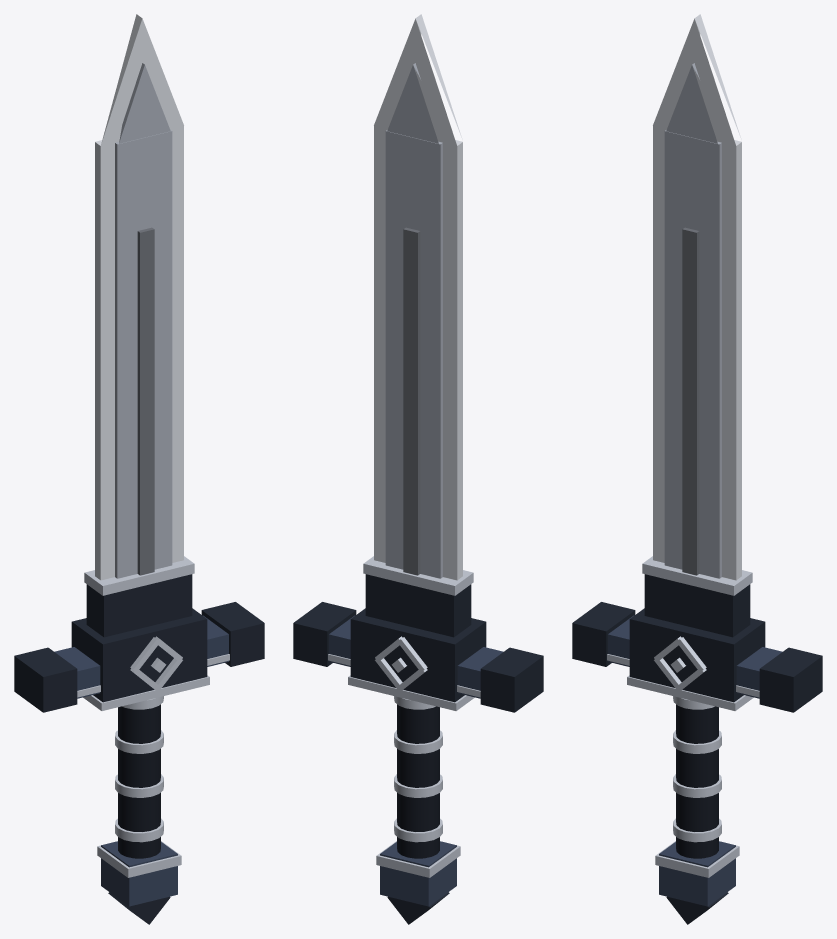
3 views of the same model, side by side, from view 1: azimuth 30°, elevation 25°; view 2: azimuth 150°, elevation 25°; view 3: azimuth 330°, elevation 25° (orthographic).
Parts seen in each view (by area): view 1: rift-blade; view 2: rift-blade; view 3: rift-blade.
Part boxes in pixels (x1,y1,x2,y2): rift-blade: (14,14,264,924); rift-blade: (293,14,543,924); rift-blade: (572,14,822,924).
Bounding box in the file's own units: 0.2582 × 1 × 0.0829.
